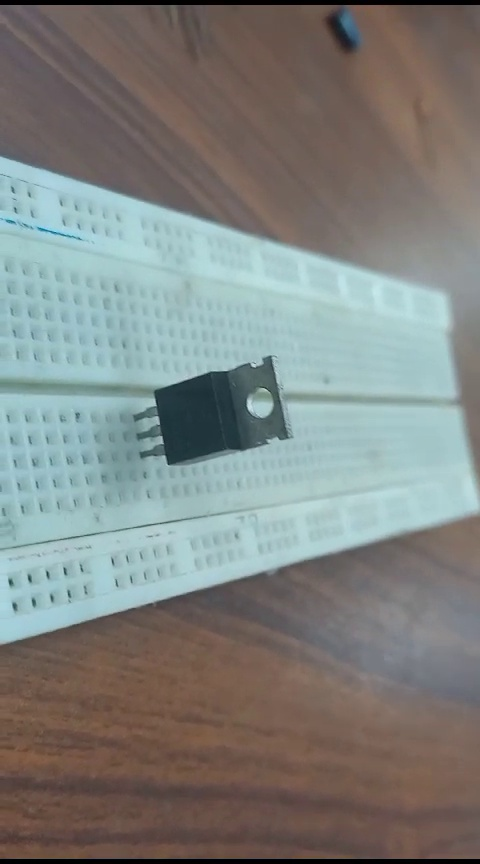voltage regulator: (141, 357, 288, 476)
